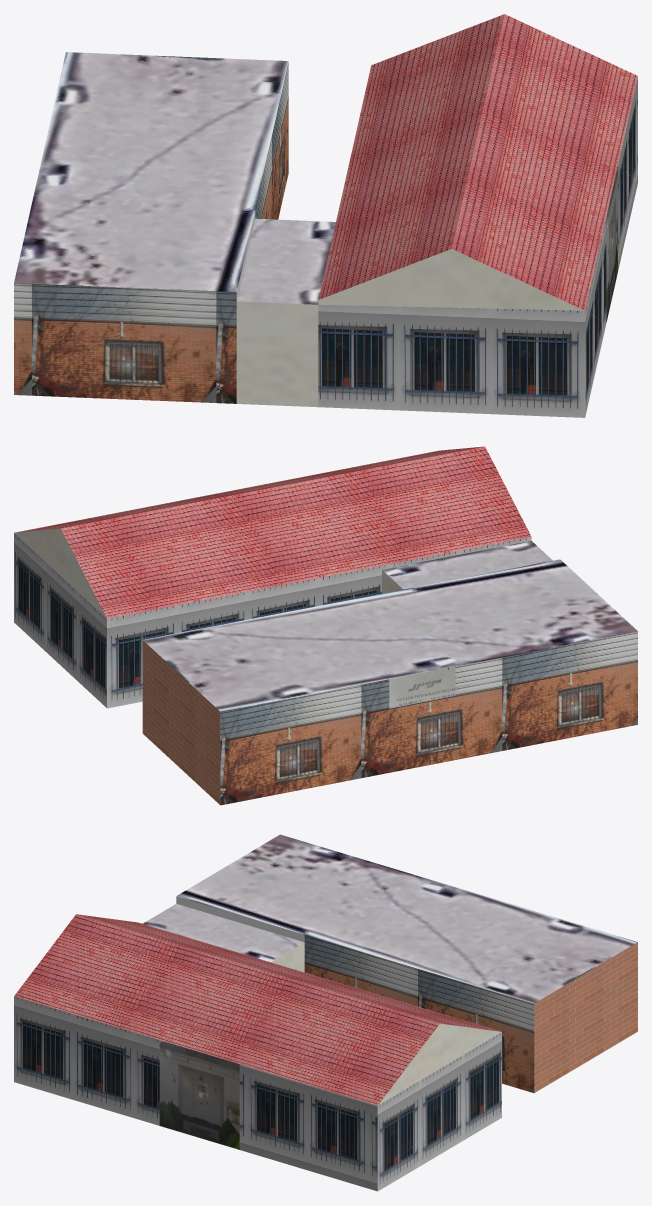
The model's file is Lecu_nextaerofan.gltf.
3 renders of one model, top to bottom at view 1: azimuth 30°, elevation 25°; view 2: azimuth 150°, elevation 25°; view 3: azimuth 270°, elevation 25°, orthographic. The views are drawn at different scales.
Parts seen in each view (by area): view 1: nextaerofan.001; view 2: nextaerofan.001; view 3: nextaerofan.001.
Boxes of the visible parts, x1,y1,x2,y2 form: nextaerofan.001: (14, 14, 637, 417); nextaerofan.001: (14, 446, 637, 805); nextaerofan.001: (14, 834, 637, 1191).
Size of the model in its own units: 24.21 by 5.53 by 23.87.
